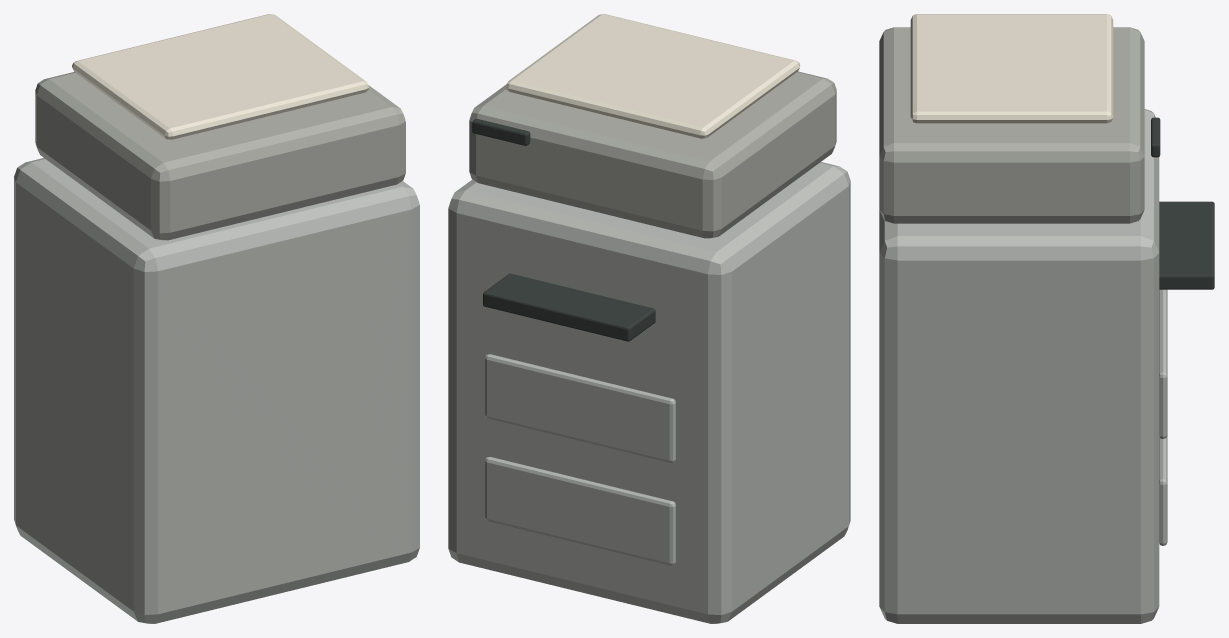
File: OfficeCopier.fbx
3 renders of one model, left to right at view 1: azimuth 30°, elevation 25°; view 2: azimuth 150°, elevation 25°; view 3: azimuth 270°, elevation 25°, orthographic. The views are drawn at different scales.
Visible parts, largest first — view 1: copier lower body, copier upper body, copier document lid; view 2: copier lower body, copier upper body, copier document lid, copier paper drawer, copier paper drawer.001, copier output tray, copier control panel; view 3: copier lower body, copier upper body, copier document lid, copier output tray, copier paper drawer.001, copier paper drawer.
Part boxes in pixels (bbox=[...]): copier lower body: bbox=[14, 158, 419, 623]; copier upper body: bbox=[35, 72, 405, 240]; copier document lid: bbox=[72, 14, 368, 139]; copier lower body: bbox=[448, 162, 850, 623]; copier upper body: bbox=[469, 71, 836, 238]; copier document lid: bbox=[506, 14, 800, 138]; copier paper drawer: bbox=[485, 457, 675, 565]; copier paper drawer.001: bbox=[485, 354, 675, 462]; copier output tray: bbox=[483, 273, 655, 341]; copier control panel: bbox=[472, 119, 530, 145]; copier lower body: bbox=[879, 109, 1159, 623]; copier upper body: bbox=[879, 27, 1144, 223]; copier document lid: bbox=[910, 14, 1113, 123]; copier output tray: bbox=[1159, 201, 1214, 289]; copier paper drawer.001: bbox=[1159, 289, 1167, 438]; copier paper drawer: bbox=[1159, 435, 1167, 545].
Bounding box in the file's own units: 92 × 149 × 91.
